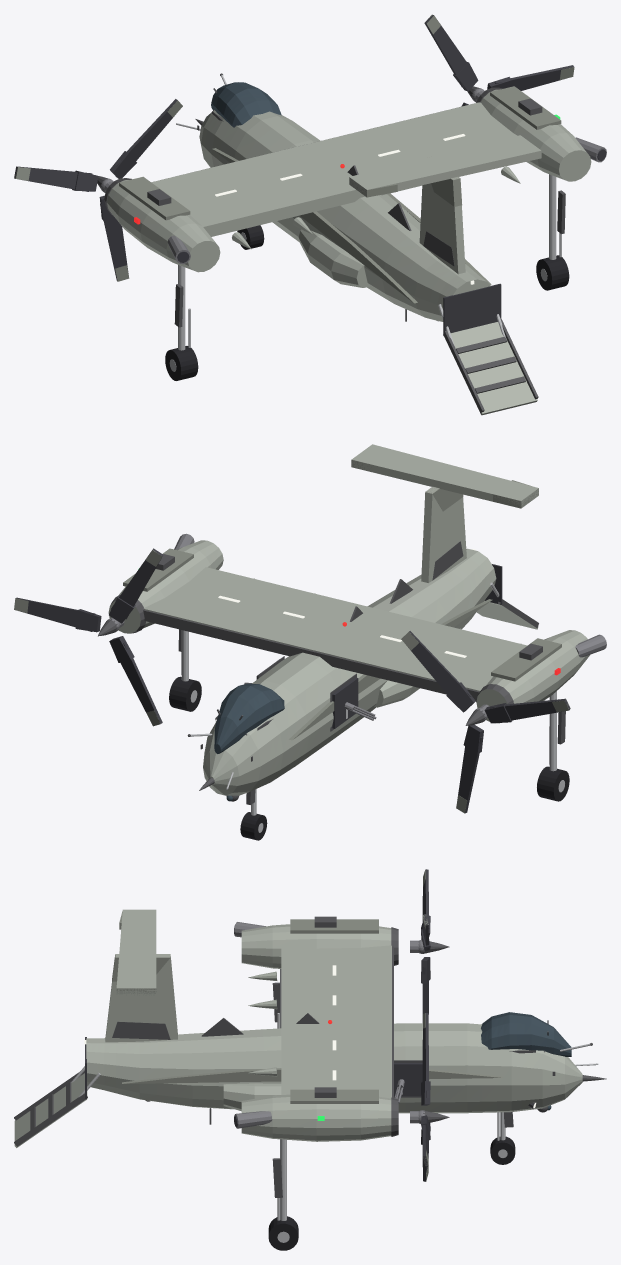
File: vanguard_tiltrotor_assault_transport.glb
3 views of the same model, one above another, from view 1: azimuth 30°, elevation 25°; view 2: azimuth 150°, elevation 25°; view 3: azimuth 270°, elevation 25° (orthographic). The views are drawn at different scales.
Parts seen in each view (by area): view 1: wing, fuselage, stab, nacelle_-1, ramp, nacelle_1, fin, ramp_opening, sponson_-1, canopy, camo_side_-1, nacelle_camo_-1 (+10 smaller); view 2: wing, fuselage, stab, nacelle_-1, deice_boot, canopy, fin, nacelle_1, nacelle_camo_-1, camo_side_-1, blade_-1_0, main_wheel_-1 (+11 smaller); view 3: fuselage, wing, nacelle_1, nacelle_-1, stab, fin, canopy, camo_side_1, ramp, nacelle_camo_-1, nacelle_camo_1, sponson_1 (+6 smaller).
Part boxes in pixels (<box>): wing: <box>151,102,517,236</box>; fuselage: <box>199,110,490,321</box>; stab: <box>349,135,541,197</box>; nacelle_-1: <box>107,180,220,272</box>; ramp: <box>449,322,537,415</box>; nacelle_1: <box>481,89,591,181</box>; fin: <box>419,177,465,274</box>; ramp_opening: <box>443,283,501,336</box>; sponson_-1: <box>298,229,369,287</box>; canopy: <box>211,82,281,127</box>; camo_side_-1: <box>212,148,417,303</box>; nacelle_camo_-1: <box>119,176,190,220</box>; wing: <box>144,567,526,691</box>; fuselage: <box>203,548,496,795</box>; stab: <box>351,444,538,508</box>; nacelle_-1: <box>476,630,589,723</box>; deice_boot: <box>143,610,479,701</box>; canopy: <box>214,683,284,753</box>; fin: <box>421,486,466,582</box>; nacelle_1: <box>108,540,223,633</box>; nacelle_camo_-1: <box>491,638,561,681</box>; camo_side_-1: <box>289,599,492,740</box>; blade_-1_0: <box>406,631,471,707</box>; main_wheel_-1: <box>537,766,569,801</box>; fuselage: <box>86,1023,582,1113</box>; wing: <box>281,945,391,1098</box>; nacelle_1: <box>241,1094,391,1141</box>; nacelle_-1: <box>241,924,391,968</box>; stab: <box>116,909,156,995</box>; fin: <box>105,954,177,1042</box>; canopy: <box>481,1012,571,1056</box>; camo_side_1: <box>122,1068,502,1083</box>; ramp: <box>14,1073,87,1147</box>; nacelle_camo_-1: <box>290,919,378,933</box>; nacelle_camo_1: <box>290,1089,378,1103</box>; sponson_1: <box>223,1083,281,1111</box>.
Bounding box in the file's own units: 13.71 × 5.33 × 13.39.
